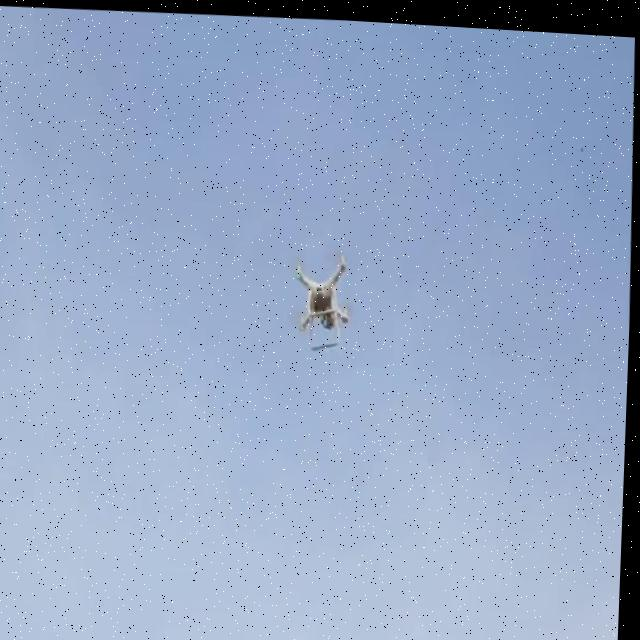drones: (275, 233, 374, 359)
